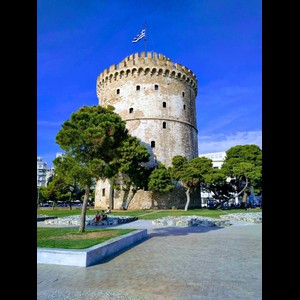White Tower: (91, 19, 203, 213)
